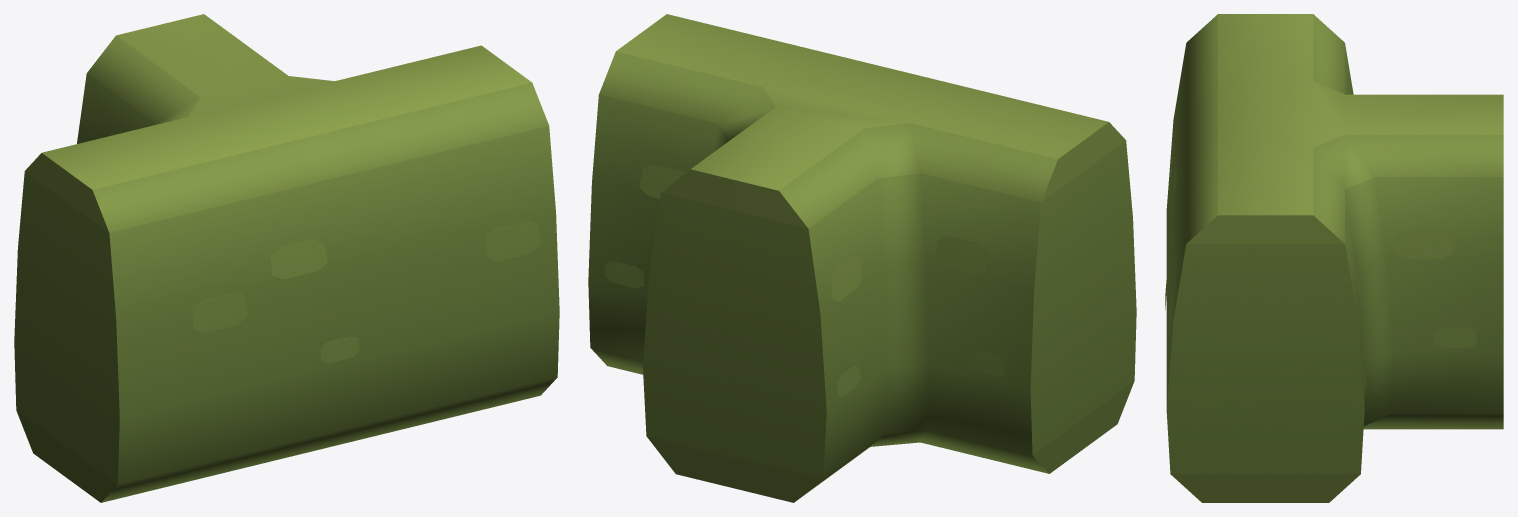
File: hedge_element_T.fbx
3 renders of one model, left to right at view 1: azimuth 30°, elevation 25°; view 2: azimuth 150°, elevation 25°; view 3: azimuth 270°, elevation 25°, orthographic. The views are drawn at different scales.
Parts seen in each view (by area): view 1: hedge_element_T; view 2: hedge_element_T; view 3: hedge_element_T.
Boxes of the visible parts, <box> form: hedge_element_T: <box>14,14,559,502</box>; hedge_element_T: <box>588,14,1136,502</box>; hedge_element_T: <box>1165,14,1503,502</box>.
Bounding box in the file's own units: 300 × 200 × 213.
